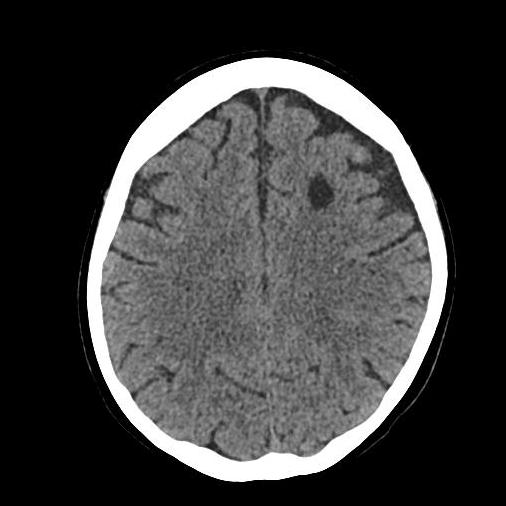Cancer: (291, 167, 352, 214)
